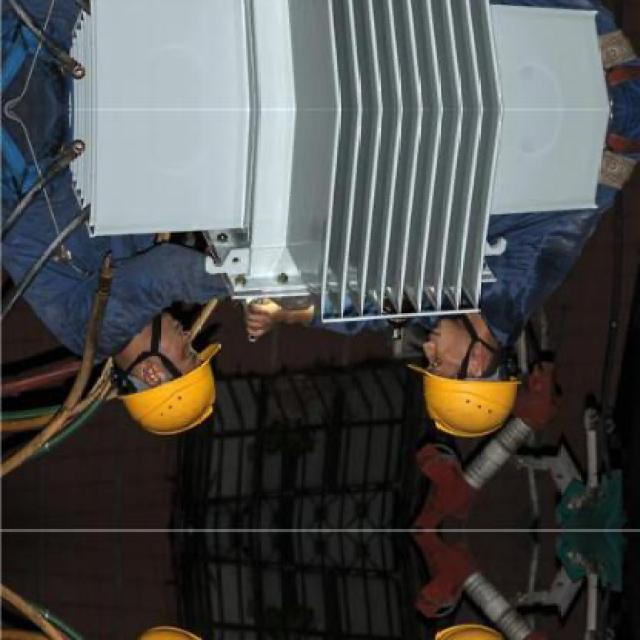con casco: (378, 313, 575, 441), (101, 308, 211, 452)
